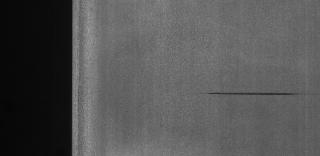scratches: (204, 84, 308, 104)
